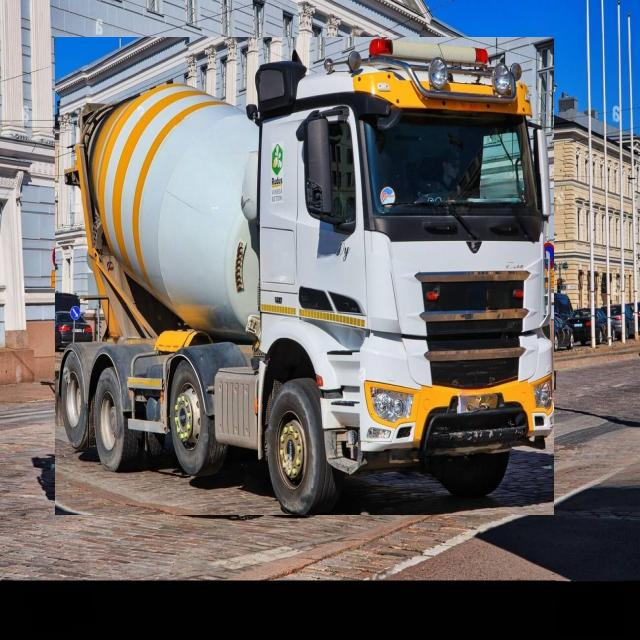truck: (55, 38, 554, 515)
